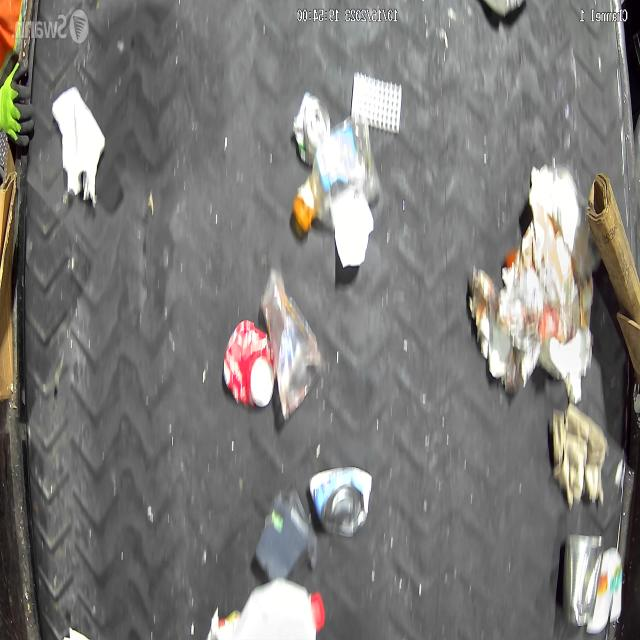can: (301, 455, 380, 538), (223, 314, 274, 422), (560, 519, 608, 629)
milk_jug: (225, 566, 327, 640)
